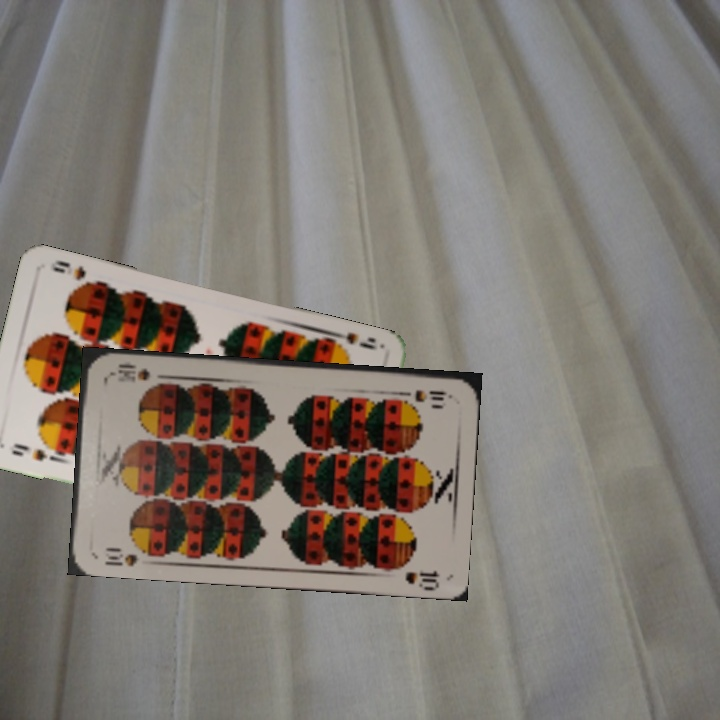S10: (395, 386, 454, 404), (101, 543, 141, 569)
S9: (325, 327, 384, 355), (7, 439, 59, 463)
